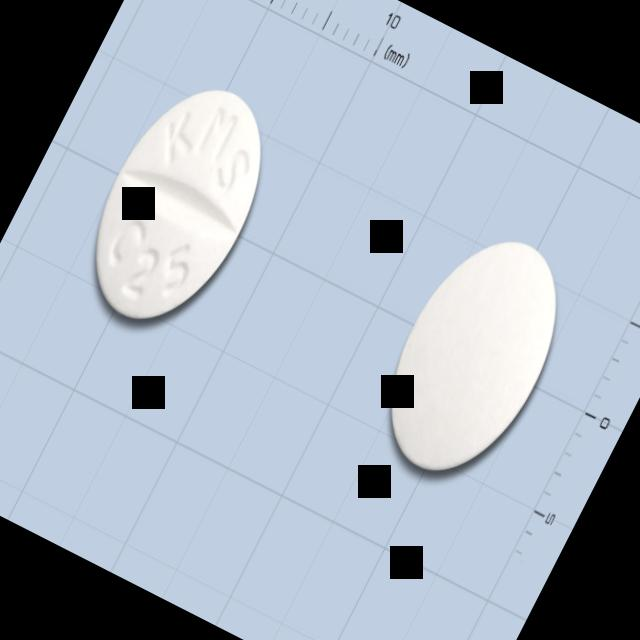Cyspec: (61, 62, 296, 349)
